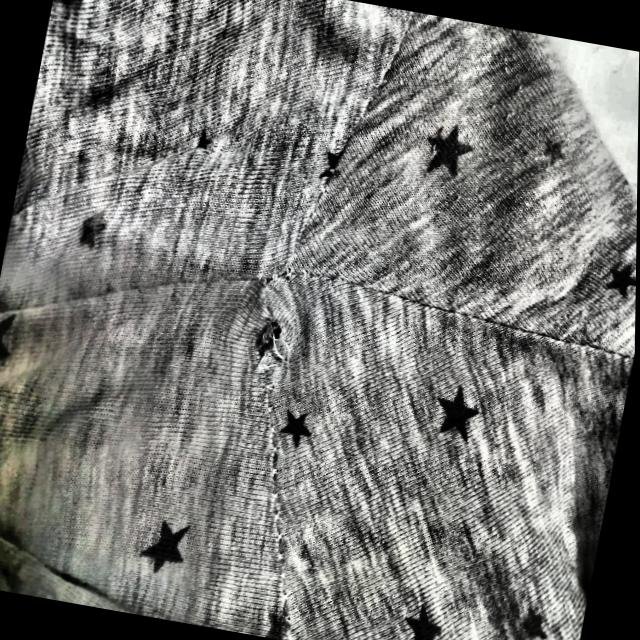Stitch: (220, 266, 322, 402)
